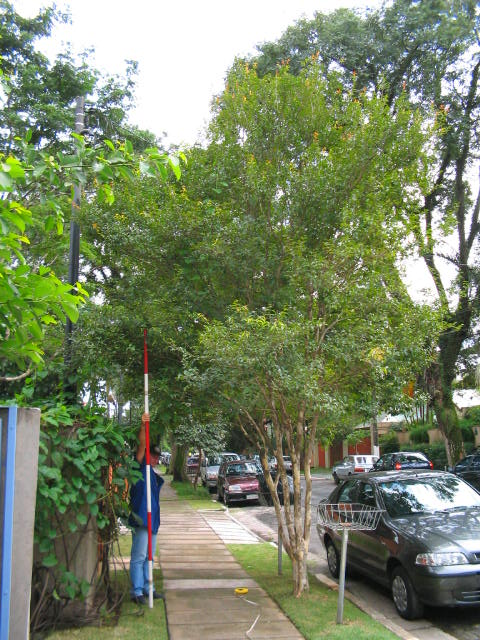crown: (84, 57, 447, 450)
stem: (282, 536, 324, 602)
stick: (129, 327, 164, 607)
tree: (81, 55, 448, 604)
